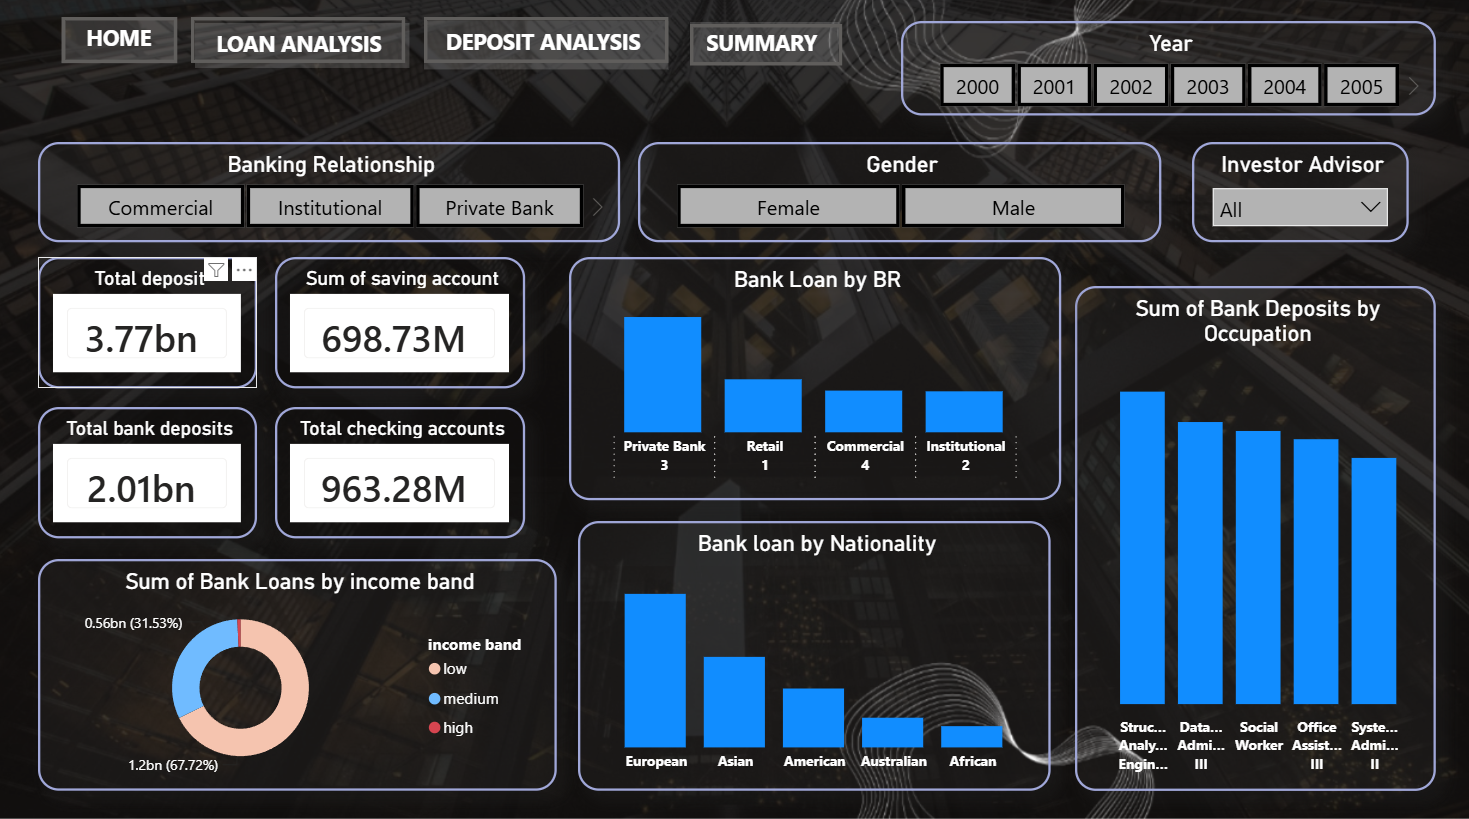

This screenshot's page, from the dashboard's own definition file:
{"tool":"powerbi","page":{"name":"Deposit Analysis ","canvas":[1280,720],"ordinal":2},"visuals":[{"type":"slicer","title":"Banking Relationship","fields":{"Values":["banking-realtionships (1).Banking Relationship"]},"box":[36,126.4,504.8,86.6],"z":0},{"type":"slicer","title":"Gender ","fields":{"Values":["Banking.GenderId"]},"box":[556.4,126.4,454.2,86.6],"z":1000},{"type":"slicer","title":"Investor Advisor","fields":{"Values":["investment-advisiors.Investment Advisor"]},"box":[1036.8,126.4,187.7,86.6],"z":2000},{"type":"slicer","title":"Year ","fields":{"Values":["Banking.Joined Bank.Variation.Date Hierarchy.Year"]},"box":[784,21.4,464,81.7],"z":3000},{"type":"donutChart","fields":{"Category":["Banking.income band"],"Y":["Sum(Banking.Bank Loans)"]},"box":[36,488.3,450.3,201.3],"z":4000},{"type":"cardVisual","title":"Total deposit","fields":{"Data":["Banking.total deposit"]},"box":[36,226.6,189.7,113.8],"z":5000},{"type":"cardVisual","title":"Total bank deposits","fields":{"Data":["Sum(Banking.Bank Deposits)"]},"box":[36,357,189.7,113.8],"z":6000},{"type":"cardVisual","title":"Sum of saving  account","fields":{"Data":["Sum(Banking.Saving Accounts)"]},"box":[241.2,226.6,216.9,113.8],"z":7000},{"type":"cardVisual","title":"Total checking accounts","fields":{"Data":["Sum(Banking.Checking Accounts)"]},"box":[241.2,357,216.9,113.8],"z":8000},{"type":"clusteredColumnChart","fields":{"Category":["Banking.Occupation"],"Y":["Sum(Banking.Bank Deposits)"]},"box":[934.7,251.9,313.2,437.7],"z":9000},{"type":"clusteredColumnChart","title":"Bank loan by Nationality","fields":{"Y":["Sum(Banking.Bank Deposits)"],"Category":["Banking.Nationality"]},"box":[503.8,455.2,410.5,234.4],"z":10000},{"type":"clusteredColumnChart","title":"Bank Loan by BR","fields":{"Category":["banking-realtionships (1).BRId","banking-realtionships (1).Banking Relationship"],"Y":["Sum(Banking.Bank Deposits)"]},"box":[496,226.6,427,211.1],"z":11000},{"type":"textbox","box":[55.4,18.5,100.2,39.9],"z":12000},{"type":"actionButton","box":[56,18,100,40],"z":13000},{"type":"textbox","box":[172.2,23.3,185.8,38.9],"z":14000},{"type":"actionButton","box":[168.3,18.5,185.8,39.9],"z":15000},{"type":"textbox","box":[370.6,21.4,212,41.8],"z":16000},{"type":"actionButton","box":[370.6,18.5,212,39.9],"z":17000},{"type":"textbox","box":[601.1,22.4,129.4,36],"z":18000},{"type":"actionButton","box":[601.1,24.3,132.3,36],"z":19000}]}

Visuals, with their boxes in screenshot pixels (x1, y1, x2, y2), scaled from the page's 1280x720 canvas onto the 1469x819 screenshot:
"Banking Relationship" slicer: 41,144,621,242
"Gender " slicer: 639,144,1160,242
"Investor Advisor" slicer: 1190,144,1405,242
"Year " slicer: 900,24,1432,117
donutChart - Banking.income band x Sum(Banking.Bank Loans): 41,555,558,784
"Total deposit" cardVisual: 41,258,259,387
"Total bank deposits" cardVisual: 41,406,259,536
"Sum of saving  account" cardVisual: 277,258,526,387
"Total checking accounts" cardVisual: 277,406,526,536
clusteredColumnChart - Banking.Occupation x Sum(Banking.Bank Deposits): 1073,287,1432,784
"Bank loan by Nationality" clusteredColumnChart: 578,518,1049,784
"Bank Loan by BR" clusteredColumnChart: 569,258,1059,498
textbox: 64,21,179,66
actionButton: 64,20,179,66
textbox: 198,27,411,71
actionButton: 193,21,406,66
textbox: 425,24,669,72
actionButton: 425,21,669,66
textbox: 690,25,838,66
actionButton: 690,28,842,69
